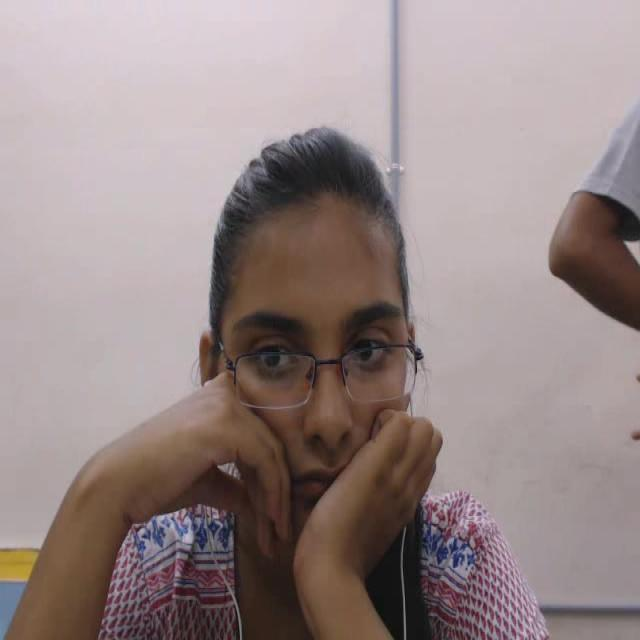Bored: (164, 92, 457, 568)
